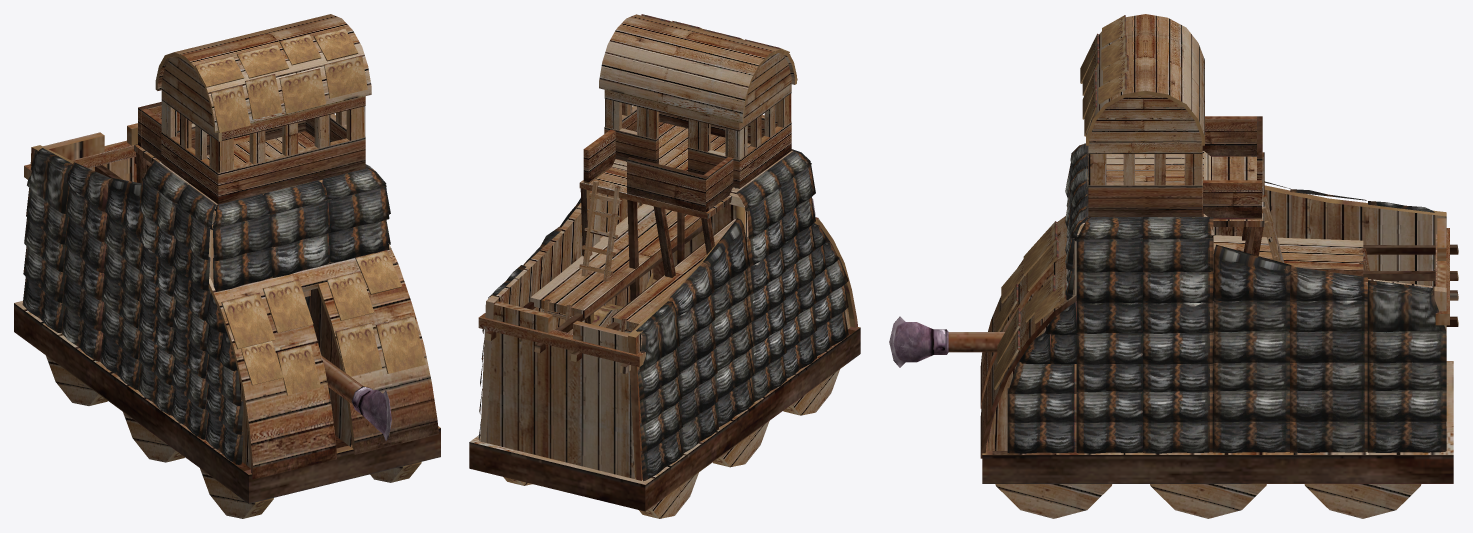
File: pers_siege_ram.glb
3 renders of one model, left to right at view 1: azimuth 30°, elevation 25°; view 2: azimuth 150°, elevation 25°; view 3: azimuth 270°, elevation 25°, orthographic. The views are drawn at different scales.
Bounding box in the file's own units: 5.47 × 11.54 × 13.95.
1 material, 1 textured.
